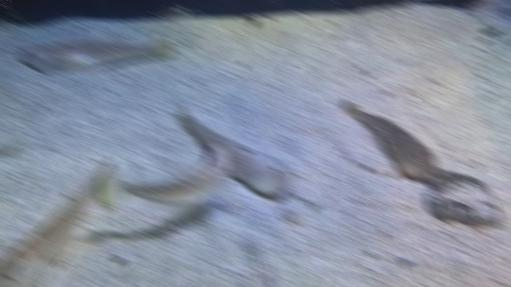Fish: (0, 160, 113, 286), (179, 107, 294, 195), (96, 145, 229, 213), (343, 100, 440, 181), (20, 41, 173, 73), (266, 276, 269, 286)
